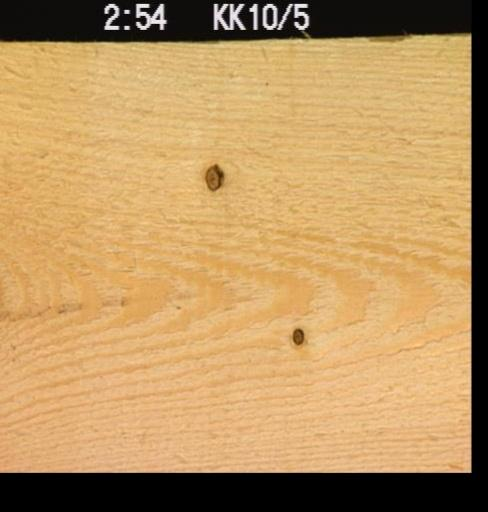dry_knot: (202, 161, 224, 191), (290, 325, 304, 345)
